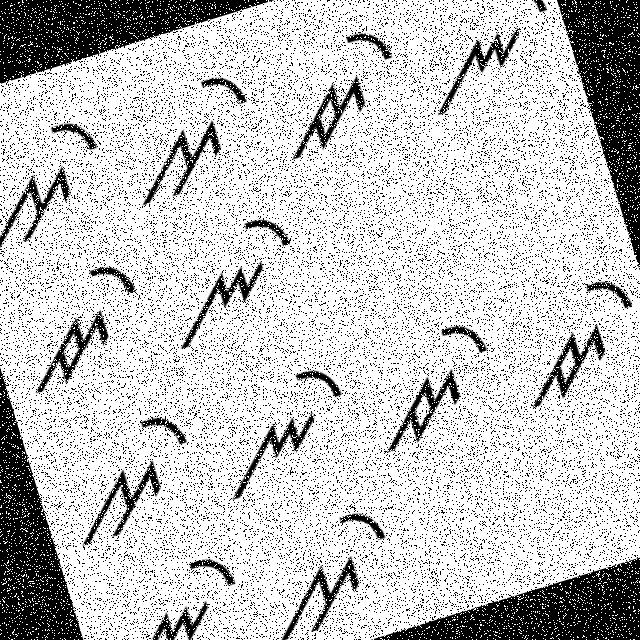jay: (352, 306, 514, 462), (494, 255, 639, 420), (0, 252, 161, 400), (262, 18, 417, 164)
nyay: (151, 200, 319, 355), (202, 352, 364, 498), (402, 0, 577, 123), (88, 540, 259, 639)
say: (44, 397, 215, 553), (108, 64, 276, 215), (247, 492, 409, 639), (0, 108, 121, 258)
